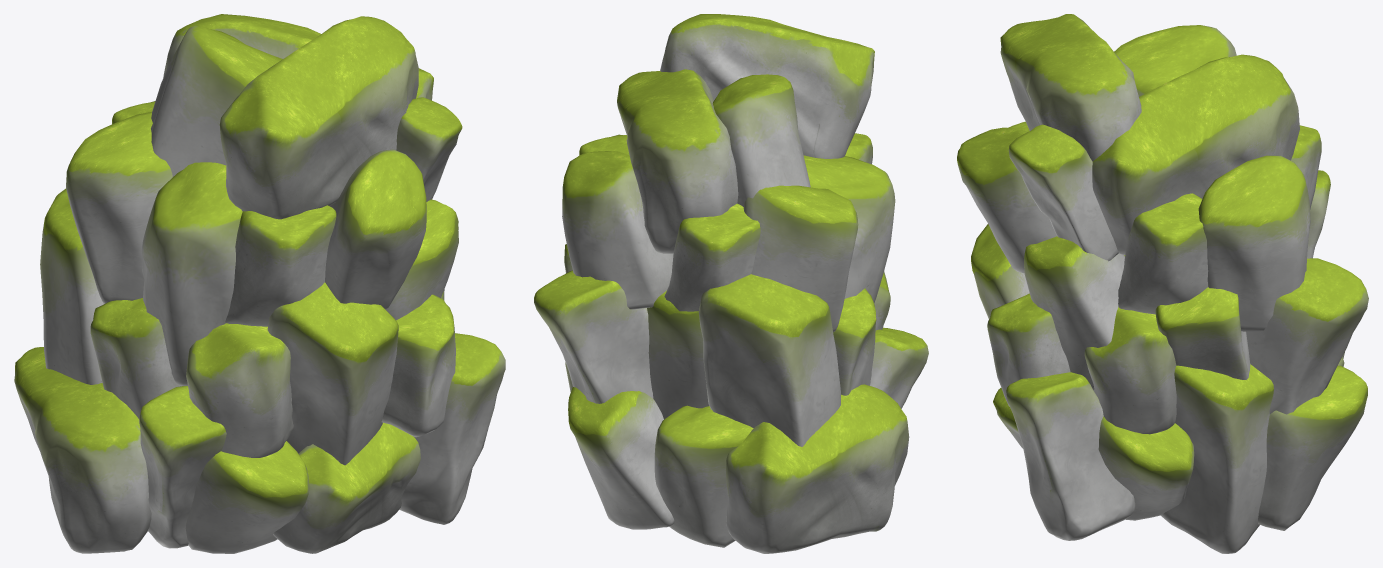
File: SM_cliff_02.fbx
3 renders of one model, left to right at view 1: azimuth 30°, elevation 25°; view 2: azimuth 150°, elevation 25°; view 3: azimuth 270°, elevation 25°, orthographic. The views are drawn at different scales.
Visible parts, largest first — view 1: Object32456; view 2: Object32456; view 3: Object32456.
Part boxes in pixels (x1=…): Object32456: x1=14, y1=14, x2=505, y2=553; Object32456: x1=534, y1=14, x2=928, y2=553; Object32456: x1=957, y1=14, x2=1368, y2=553.
Bounding box in the file's own units: 416 × 557 × 431.
